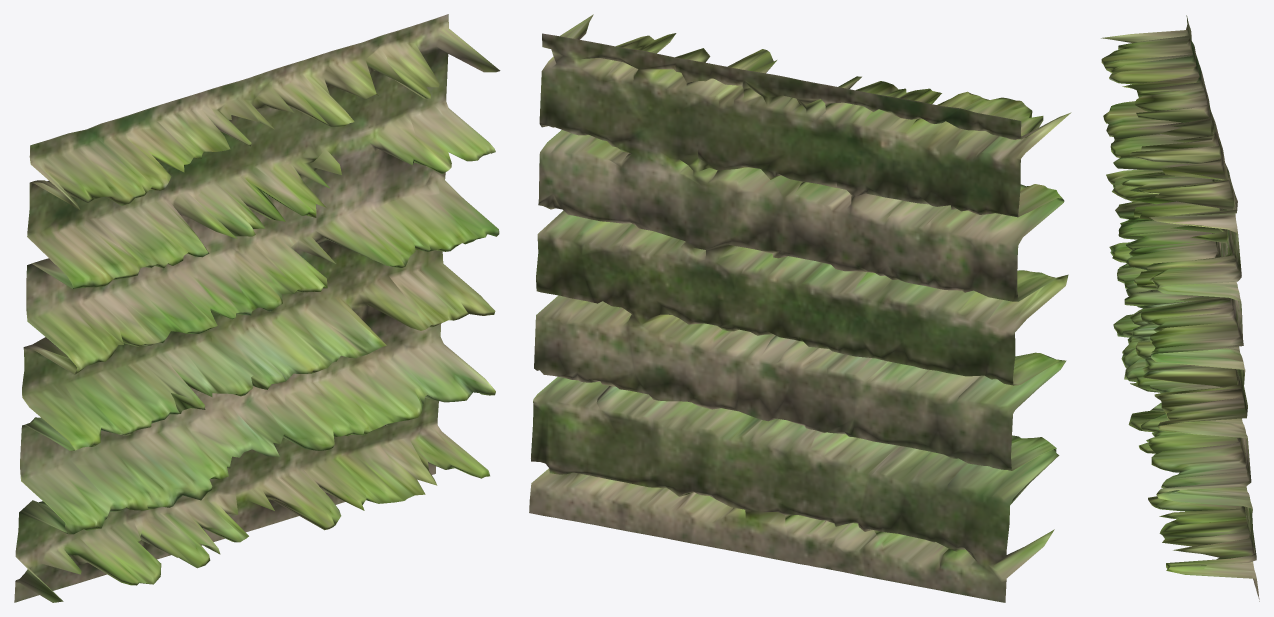
The model's file is map_80_20.obj.
3 views of the same model, side by side, from view 1: azimuth 30°, elevation 25°; view 2: azimuth 150°, elevation 25°; view 3: azimuth 270°, elevation 25° (orthographic). The views are drawn at different scales.
Size of the model in its own units: 10 by 10 by 3.6.
Materials: 1 (1 with a texture image).
